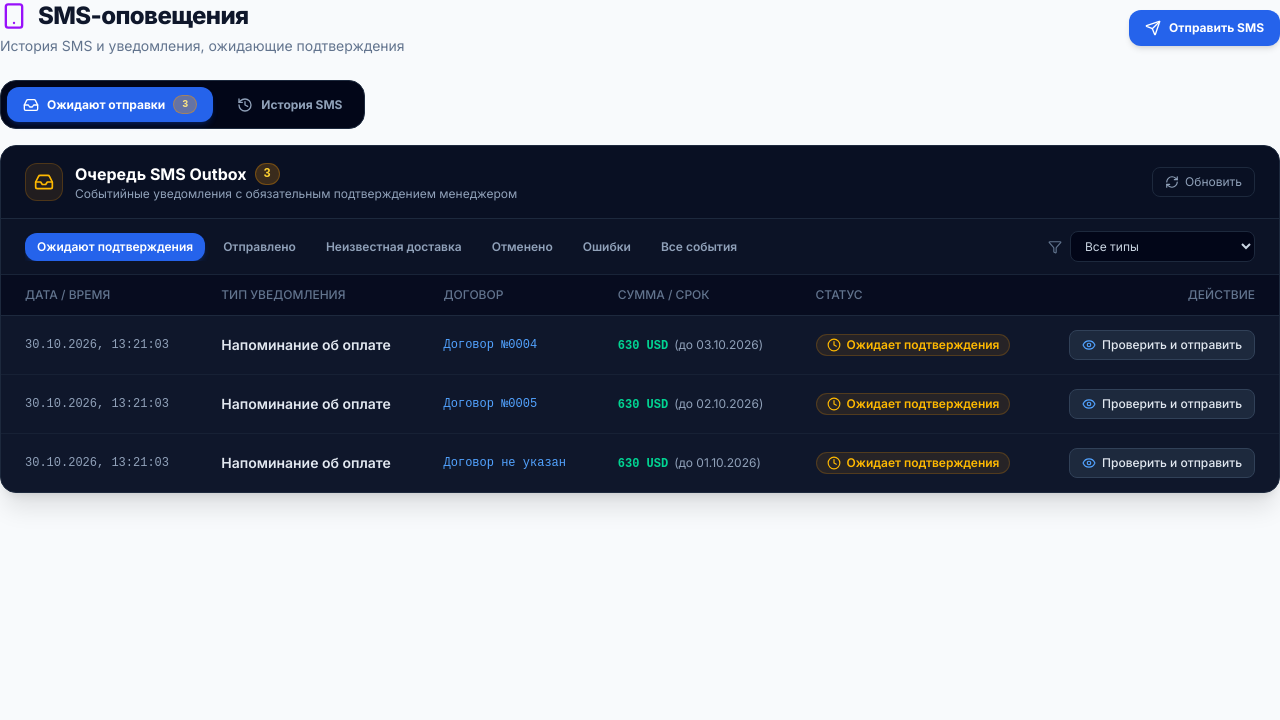
Test: SmsNotificationsPage Manager UX Hotfix Tests › J. preview modal displays localized labels, DD.MM.YYYY date, "Подтвердить отправку" button, and cancel prompt
Click the button "Проверить и отправить" in the row of "Договор №0004": (1162, 345) x1=1069 y1=330 x2=1255 y2=360
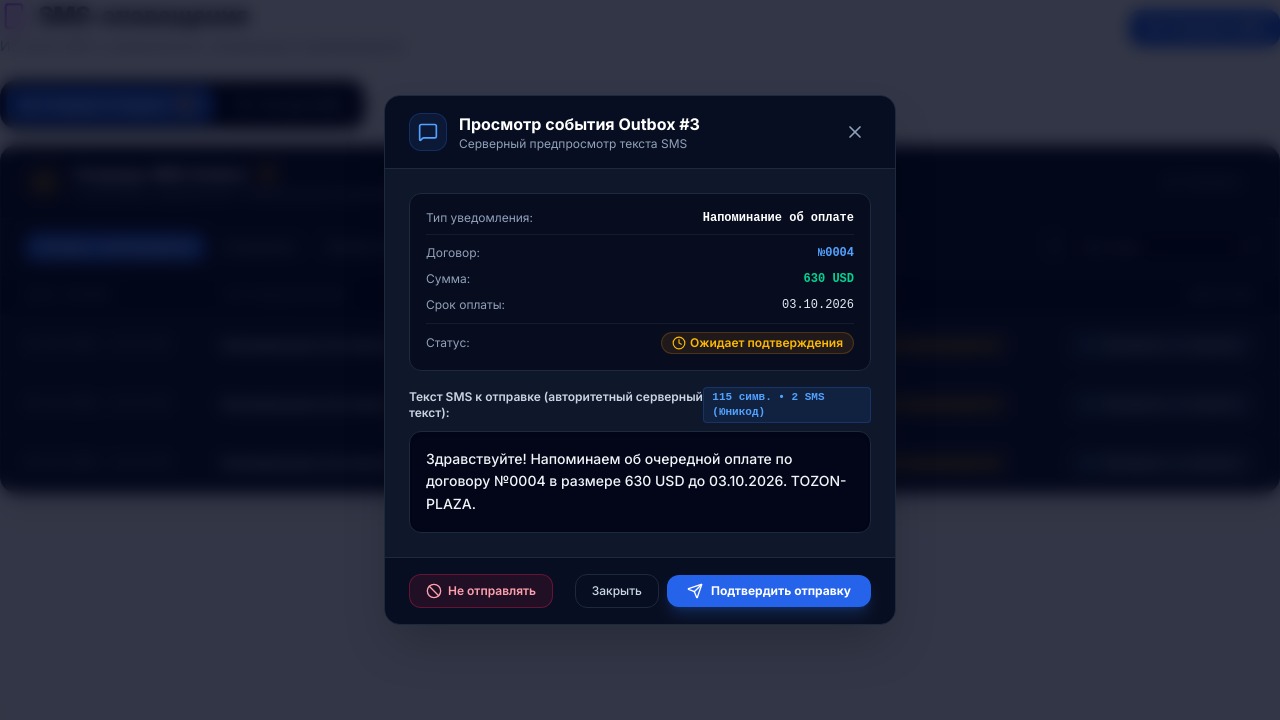
expect the text "Подтвердить отправку" is shown: met, box x1=711 y1=583 x2=851 y2=599
expect the text "03.10.2026" is shown: met, box x1=782 y1=297 x2=854 y2=313
Click the button "Не отправлять": (481, 591) x1=409 y1=574 x2=553 y2=608
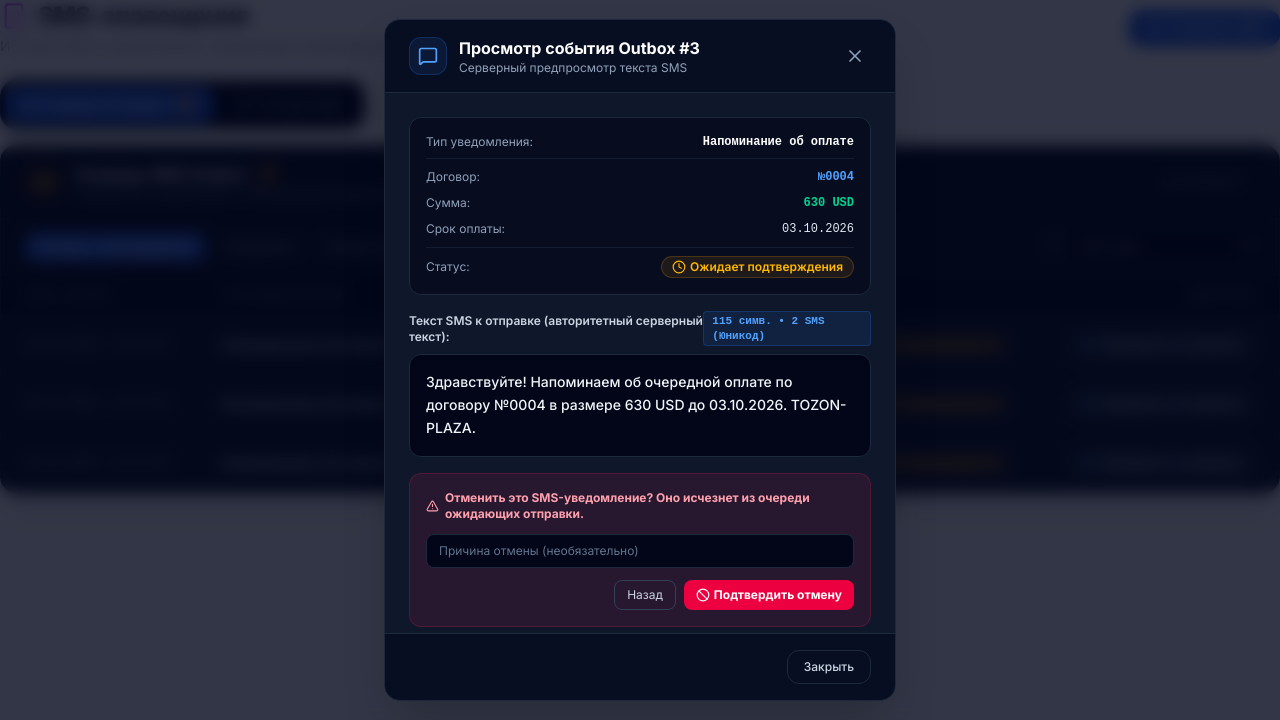
expect the heading "Отменить это SMS-уведомление? Оно исчезнет из очереди ожидающих отправки." is shown: met, box x1=426 y1=490 x2=854 y2=522
